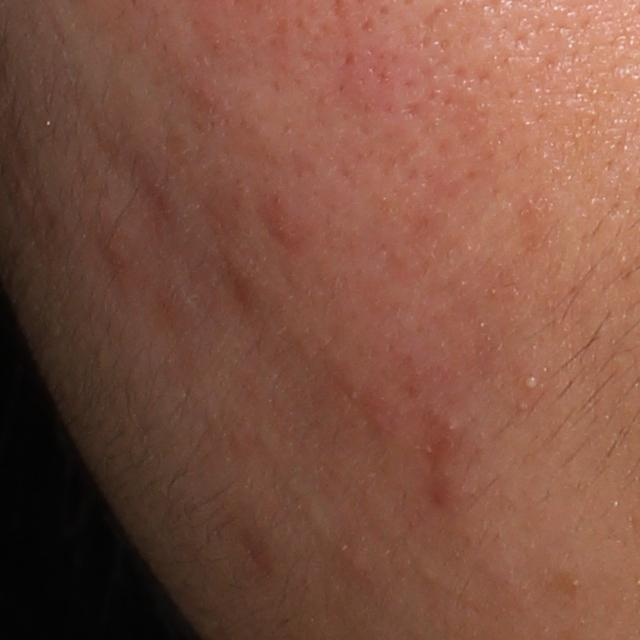comedo: (446, 420, 461, 435)
papule: (348, 380, 408, 436), (262, 199, 316, 247)
pustule: (519, 371, 544, 394)
